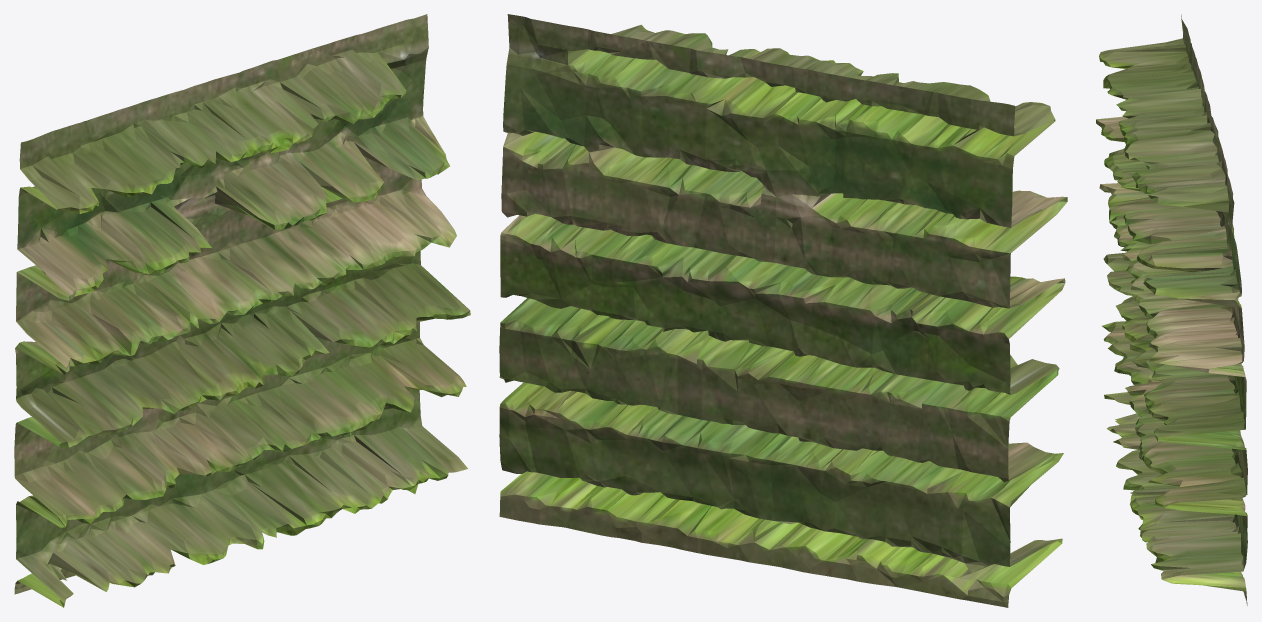
File: map_170_50.obj
3 views of the same model, side by side, from view 1: azimuth 30°, elevation 25°; view 2: azimuth 150°, elevation 25°; view 3: azimuth 270°, elevation 25° (orthographic). The views are drawn at different scales.
Visible parts, largest first — view 1: grp1; view 2: grp1; view 3: grp1.
Part boxes in pixels (left/top/right/bottom): grp1: left=14, top=14, right=470, bottom=607; grp1: left=499, top=14, right=1067, bottom=607; grp1: left=1096, top=14, right=1247, bottom=605.
Size of the model in its own units: 10 by 10 by 3.4.
Materials: 1 (1 with a texture image).
